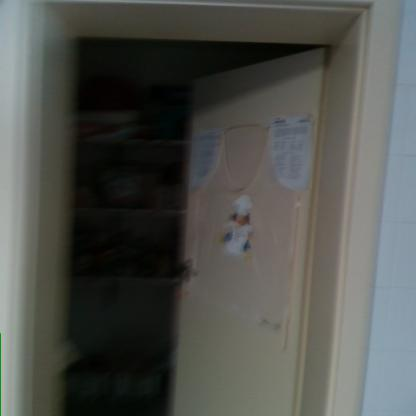semi: (15, 0, 397, 415)
